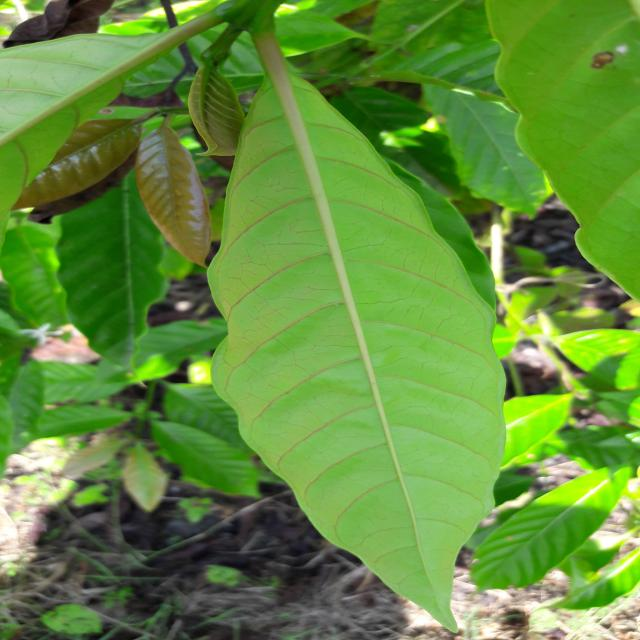Sanas: (203, 37, 507, 634)
